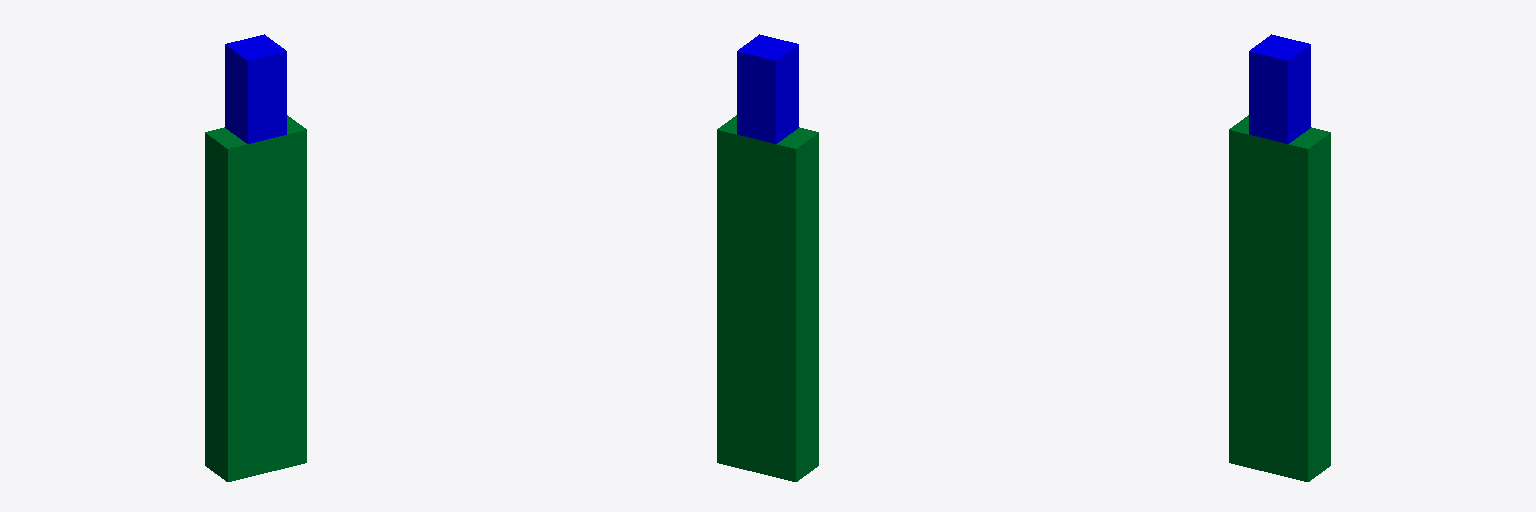
The model's file is playermodel.obj.
3 renders of one model, left to right at view 1: azimuth 30°, elevation 25°; view 2: azimuth 150°, elevation 25°; view 3: azimuth 330°, elevation 25°, orthographic.
Parts seen in each view (by area): view 1: pCube1, pCube2; view 2: pCube1, pCube2; view 3: pCube1, pCube2.
Boxes of the visible parts, <box> form: pCube1: <box>205,115,306,481</box>; pCube2: <box>225,34,286,143</box>; pCube1: <box>717,115,818,481</box>; pCube2: <box>737,34,798,143</box>; pCube1: <box>1229,115,1330,481</box>; pCube2: <box>1249,34,1310,143</box>.
Size of the model in its own units: 2 by 10 by 1.